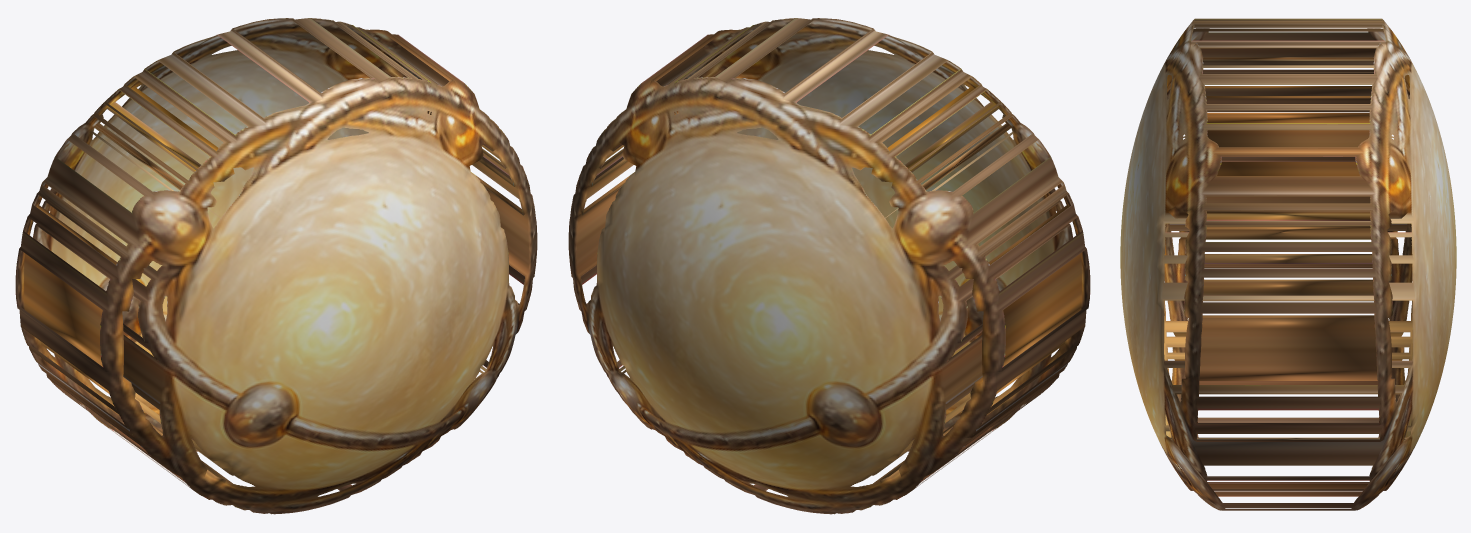
The picture shows the model from 3 angles, left to right: view 1: azimuth 30°, elevation 25°; view 2: azimuth 150°, elevation 25°; view 3: azimuth 270°, elevation 25°; orthographic projection. The views are drawn at different scales.
Parts seen in each view (by area): view 1: matter:0; view 2: matter:0; view 3: matter:0.
Boxes of the visible parts, <box> form: matter:0: <box>15,18,537,514</box>; matter:0: <box>568,18,1090,514</box>; matter:0: <box>1120,18,1456,510</box>.
Size of the model in its own units: 1.04 by 0.9545 by 0.66.
Materials: 1 (1 with a texture image).
